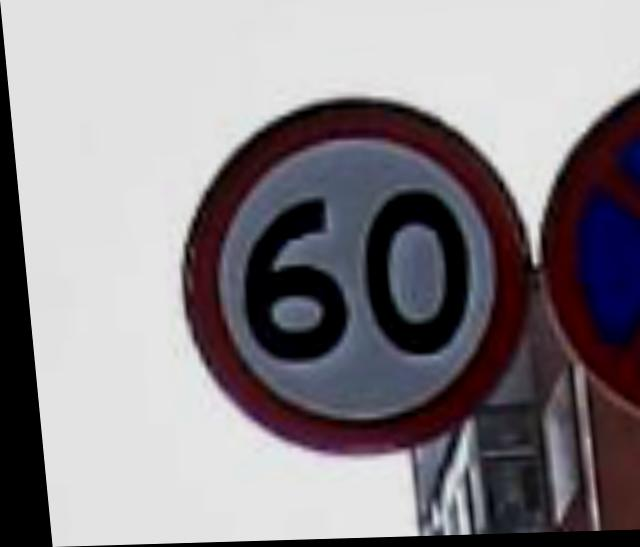limit60: (152, 87, 541, 456)
